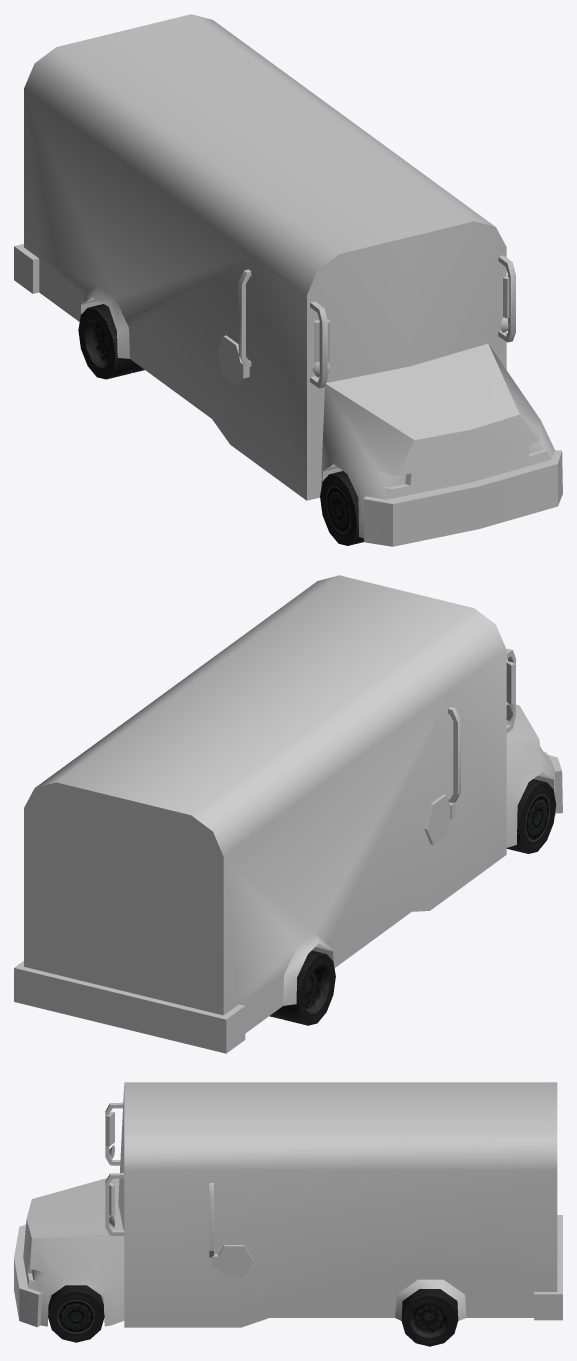
Rendered from schoolbus.fbx.
3 views of the same model, one above another, from view 1: azimuth 30°, elevation 25°; view 2: azimuth 150°, elevation 25°; view 3: azimuth 270°, elevation 25° (orthographic). The views are drawn at different scales.
Visible parts, largest first — view 1: body, rear_right, front_right; view 2: body, rear_right, front_right; view 3: body, rear_left, front_left.
Boxes of the visible parts, x1,y1,x2,y2 form: body: (14, 14, 562, 546); rear_right: (78, 304, 144, 379); front_right: (320, 471, 364, 545); body: (14, 575, 562, 1053); rear_right: (269, 950, 335, 1025); front_right: (506, 779, 556, 853); body: (14, 1082, 562, 1327); rear_left: (401, 1289, 458, 1346); front_left: (48, 1285, 104, 1342).
Size of the model in its own units: 378 by 424 by 1064.
